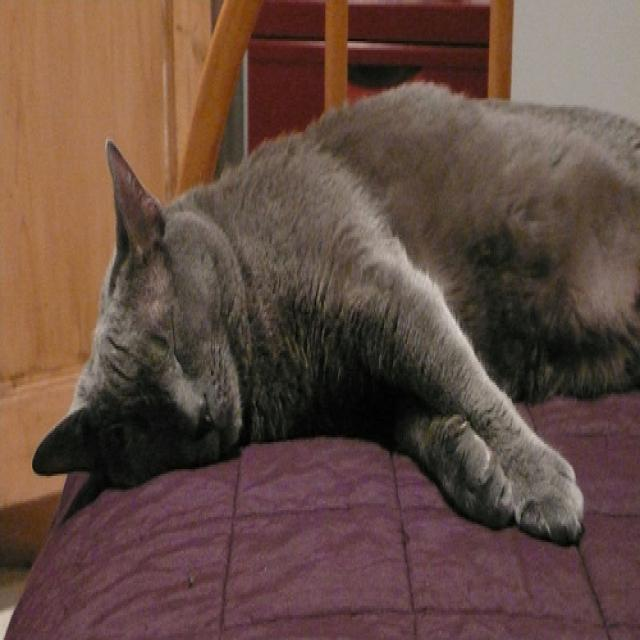cat: (28, 74, 640, 548)
